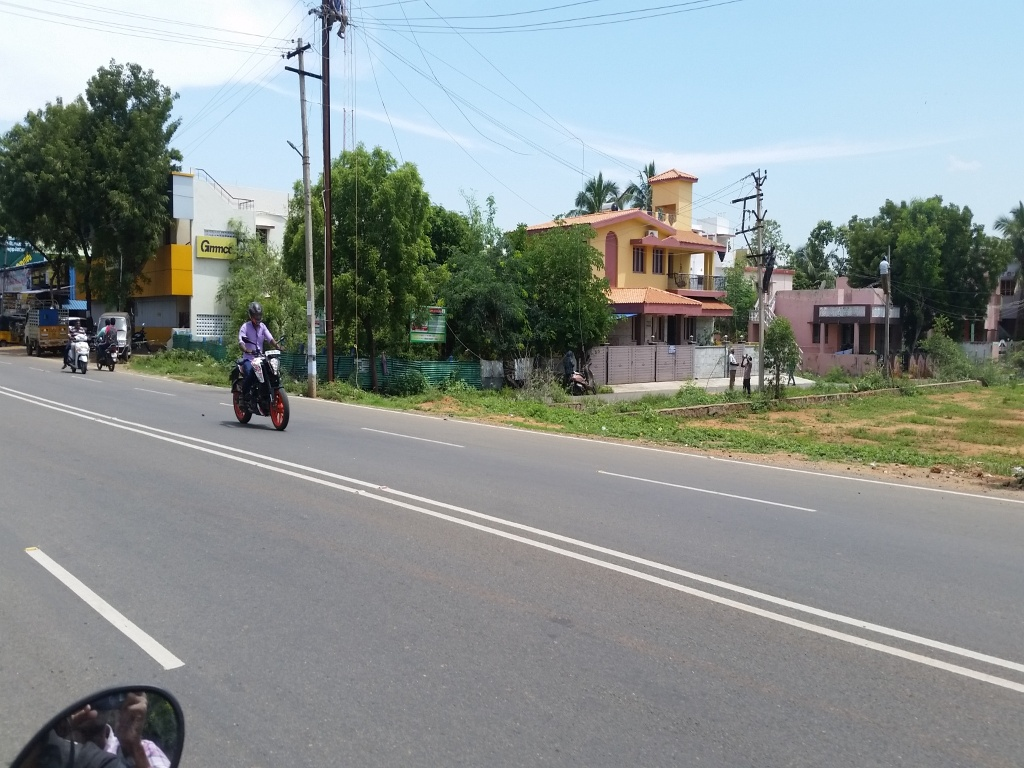biker: (220, 268, 300, 442)
helmet: (242, 295, 272, 335)
